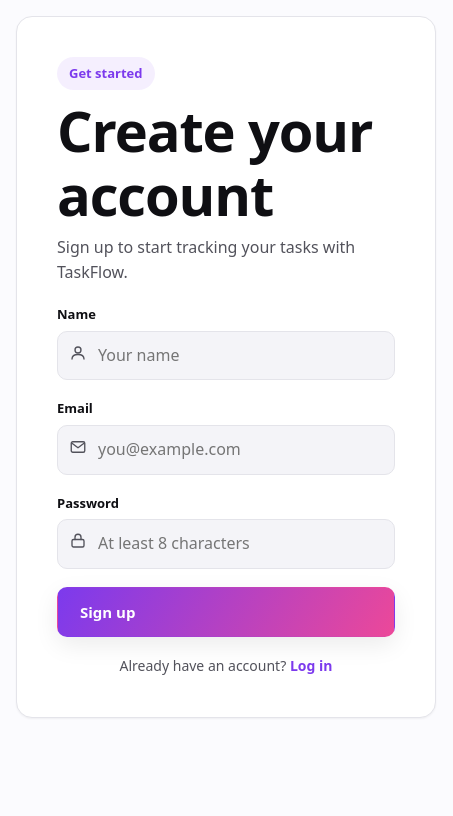
Test case: shows validation errors when submitting an empty form
Click the button "Sign up": click(108, 612) left=57, top=587, right=395, bottom=637
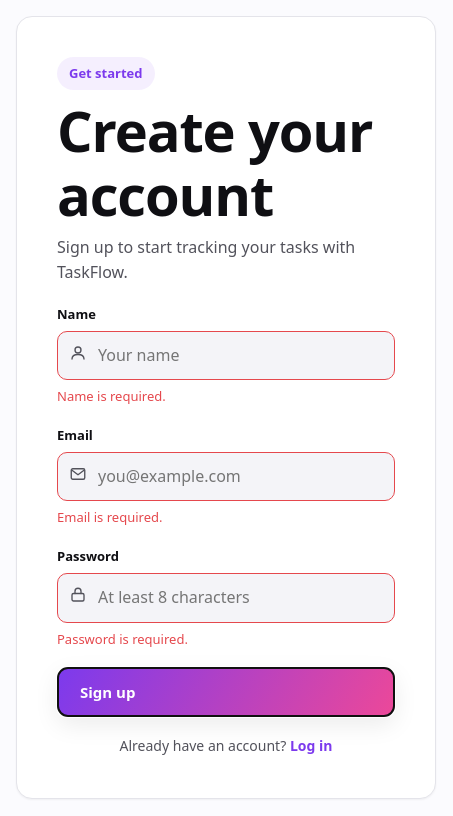
Expected: the text "Name is required." is shown, left=57, top=387, right=166, bottom=405
Expected: the text "Email is required." is shown, left=57, top=508, right=162, bottom=526
Expected: the text "Password is required." is shown, left=57, top=630, right=188, bottom=648
